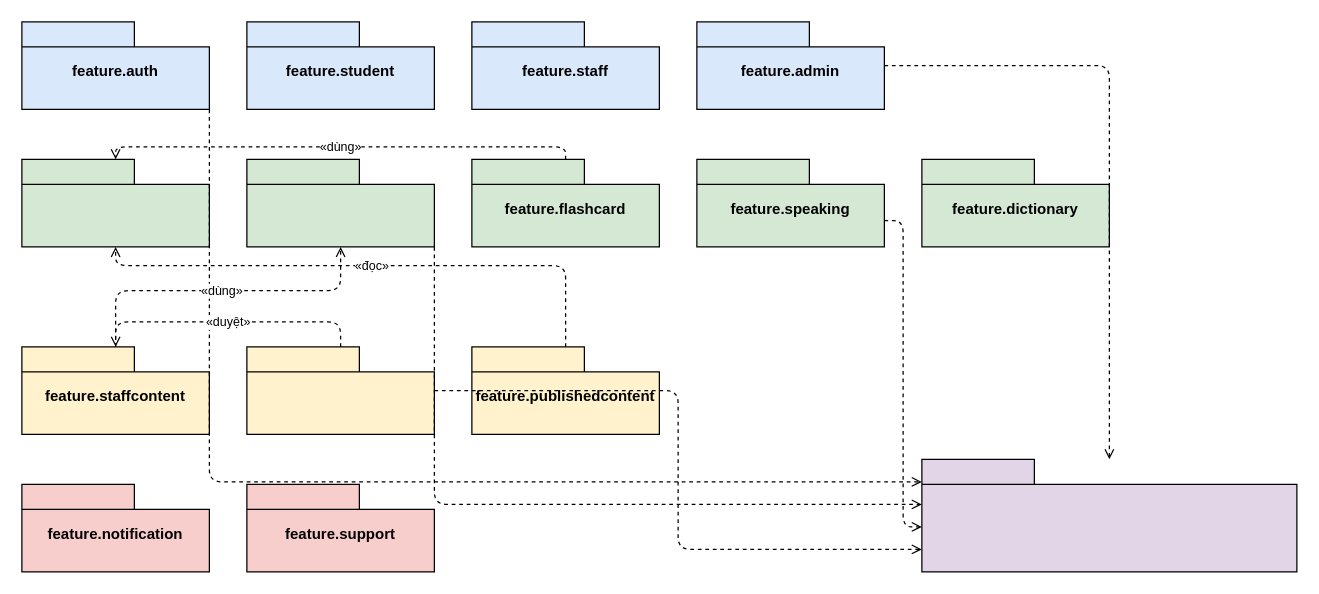
Image size: 1319x594. Some labels were removed from this diagram. Here are the shapes that lost their labels. From the top down, the box of each, then its label:
(21, 158, 209, 247): feature.learning
(246, 158, 434, 247): feature.assessment
(246, 346, 434, 434): feature.contentreview
(921, 458, 1297, 572): shared (common, config, security, email, exception, notification)
